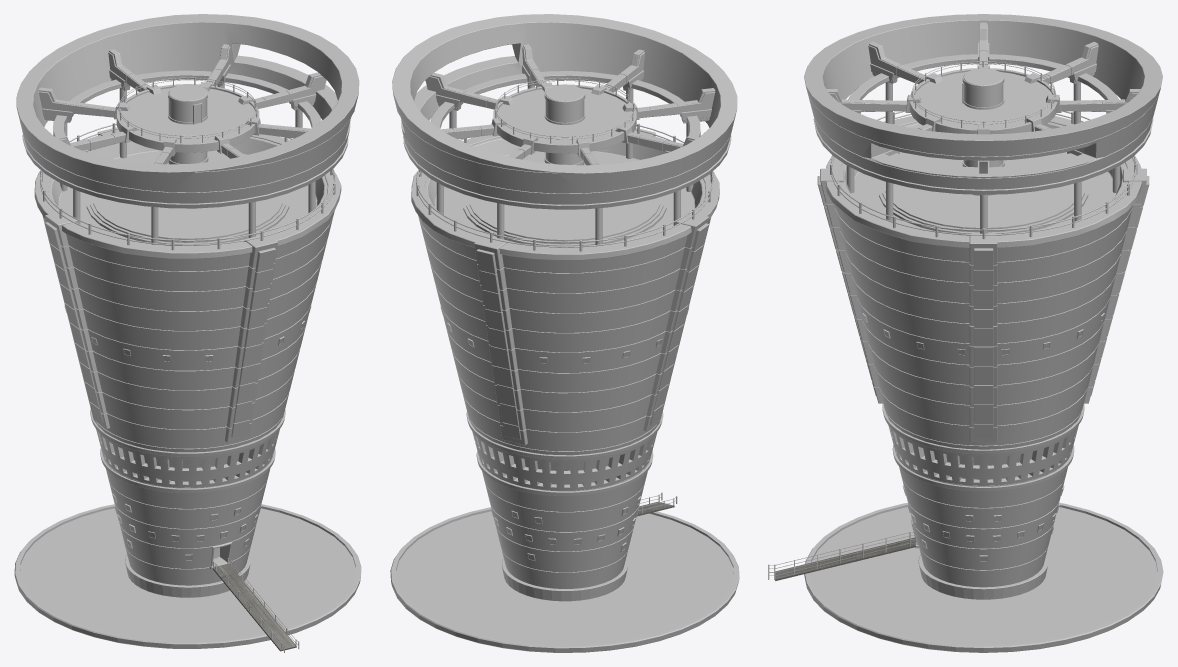
Rendered from Kitbash3D_Brutalist_Cone01.fbx.
The picture shows the model from 3 angles, left to right: view 1: azimuth 30°, elevation 25°; view 2: azimuth 150°, elevation 25°; view 3: azimuth 270°, elevation 25°; orthographic projection. The views are drawn at different scales.
Parts seen in each view (by area): view 1: L_Bldg_E_Main_Bldg, L_Bldg_E_Water, L_Bldg_E_Support_Top, L_Bldg_E_ConcGeneral, L_Bldg_E_Mullion_Rails, L_Bldg_E_ConcFormNoHoles, L_Bldg_E_WindowsGlass; view 2: L_Bldg_E_Main_Bldg, L_Bldg_E_Water, L_Bldg_E_Support_Top, L_Bldg_E_ConcGeneral, L_Bldg_E_Mullion_Rails, L_Bldg_E_WindowsGlass; view 3: L_Bldg_E_Main_Bldg, L_Bldg_E_Water, L_Bldg_E_Support_Top, L_Bldg_E_ConcGeneral, L_Bldg_E_Mullion_Rails, L_Bldg_E_ConcFormNoHoles, L_Bldg_E_WindowsGlass.
Boxes of the visible parts, <box> form: L_Bldg_E_Main_Bldg: <box>16,14,359,585</box>; L_Bldg_E_Water: <box>20,508,355,640</box>; L_Bldg_E_Support_Top: <box>38,44,326,244</box>; L_Bldg_E_ConcGeneral: <box>14,150,361,648</box>; L_Bldg_E_Mullion_Rails: <box>40,77,335,652</box>; L_Bldg_E_ConcFormNoHoles: <box>212,564,296,651</box>; L_Bldg_E_WindowsGlass: <box>92,323,303,560</box>; L_Bldg_E_Main_Bldg: <box>392,14,737,588</box>; L_Bldg_E_Water: <box>396,511,733,644</box>; L_Bldg_E_Support_Top: <box>425,44,715,246</box>; L_Bldg_E_ConcGeneral: <box>390,151,739,652</box>; L_Bldg_E_Mullion_Rails: <box>416,77,713,561</box>; L_Bldg_E_WindowsGlass: <box>448,325,661,560</box>; L_Bldg_E_Main_Bldg: <box>804,14,1162,587</box>; L_Bldg_E_Water: <box>809,507,1157,644</box>; L_Bldg_E_Support_Top: <box>826,22,1140,233</box>; L_Bldg_E_ConcGeneral: <box>804,152,1163,652</box>; L_Bldg_E_Mullion_Rails: <box>768,60,1137,579</box>; L_Bldg_E_ConcFormNoHoles: <box>775,537,915,580</box>; L_Bldg_E_WindowsGlass: <box>863,315,1103,561</box>.
Bounding box in the file's own units: 2465 × 3874 × 2707.
